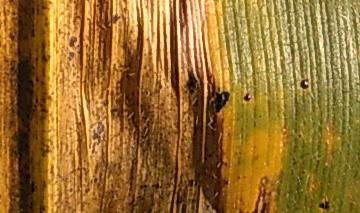tarspot: (212, 89, 231, 114), (185, 65, 199, 95), (208, 112, 217, 131), (240, 91, 253, 104), (67, 34, 77, 50), (317, 200, 331, 211), (258, 198, 268, 213), (299, 77, 310, 90), (151, 180, 161, 192), (179, 202, 188, 213), (186, 178, 193, 187), (143, 89, 150, 98), (193, 177, 199, 187), (300, 169, 308, 176), (296, 132, 303, 139), (92, 176, 98, 184), (94, 3, 101, 9), (223, 179, 229, 186), (193, 168, 198, 175)
